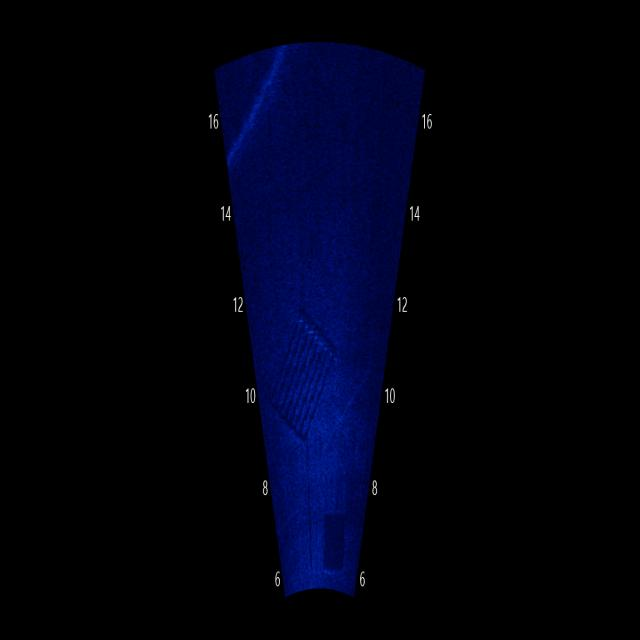square: (267, 296, 344, 436), (315, 494, 354, 578)
